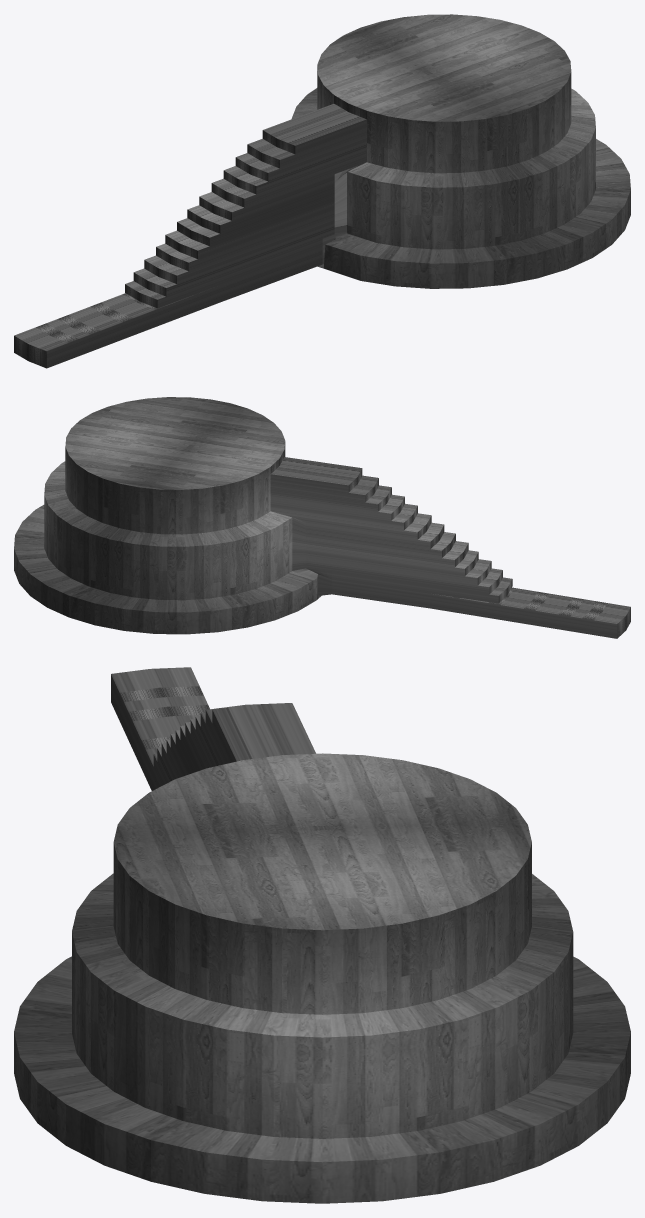
Rendered from Stage Attempt 3.fbx.
3 views of the same model, one above another, from view 1: azimuth 30°, elevation 25°; view 2: azimuth 150°, elevation 25°; view 3: azimuth 270°, elevation 25° (orthographic). The views are drawn at different scales.
Parts seen in each view (by area): view 1: Cylinder; view 2: Cylinder; view 3: Cylinder.
Boxes of the visible parts, x1=… form: Cylinder: x1=14, y1=14, x2=630, y2=368; Cylinder: x1=14, y1=397, x2=630, y2=638; Cylinder: x1=14, y1=667, x2=630, y2=1203.
Size of the model in its own units: 4662 by 999 by 2398.
Materials: 1 (1 with a texture image).
